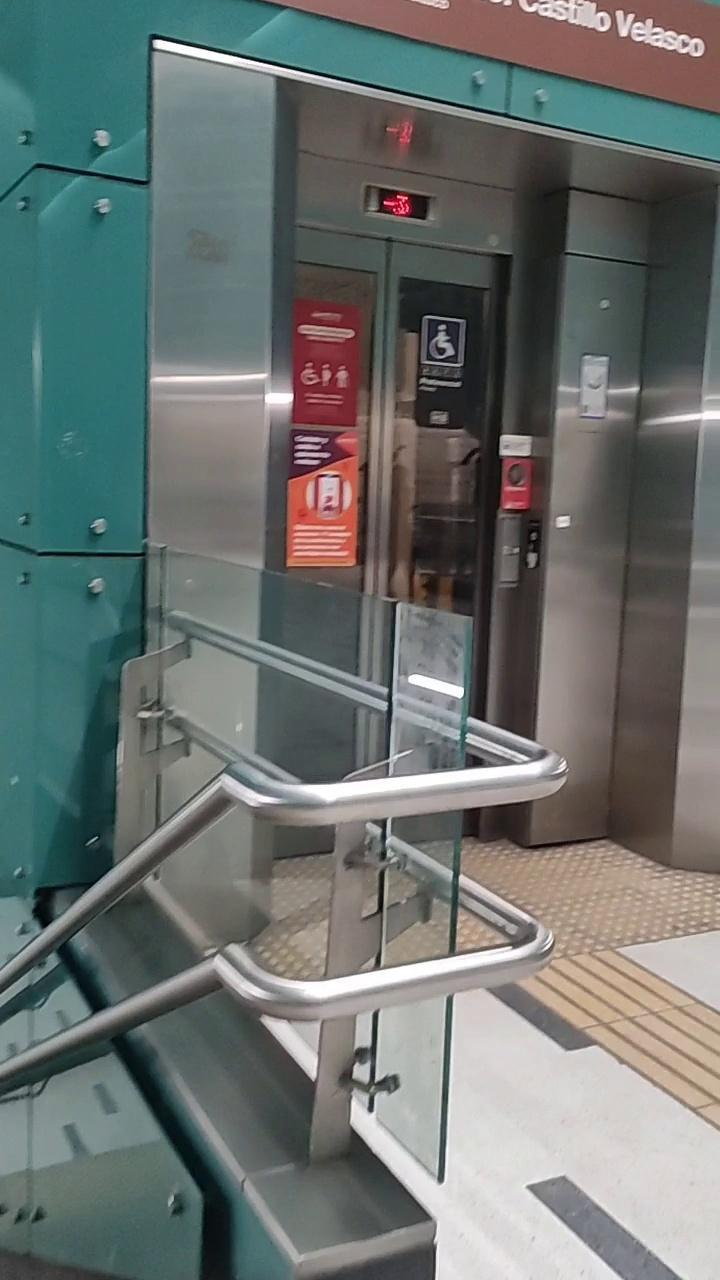handicapped symbol: (428, 324, 456, 360), (300, 361, 321, 386)
